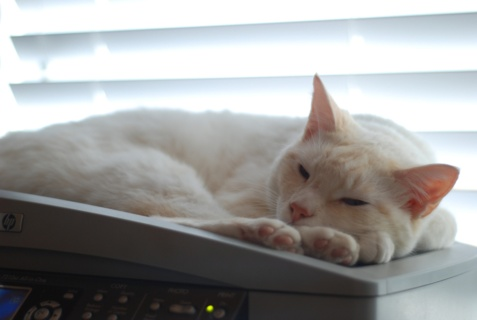Cat: (0, 71, 460, 263)
